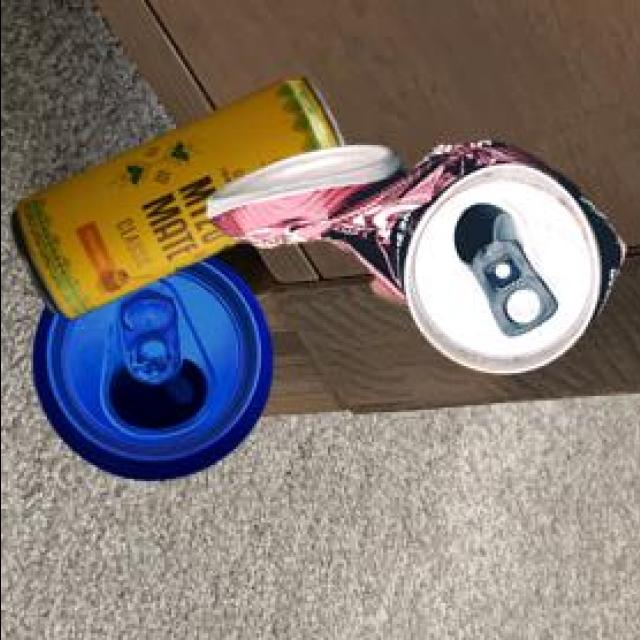logam: (211, 137, 627, 369), (15, 75, 346, 314), (36, 252, 275, 475)
